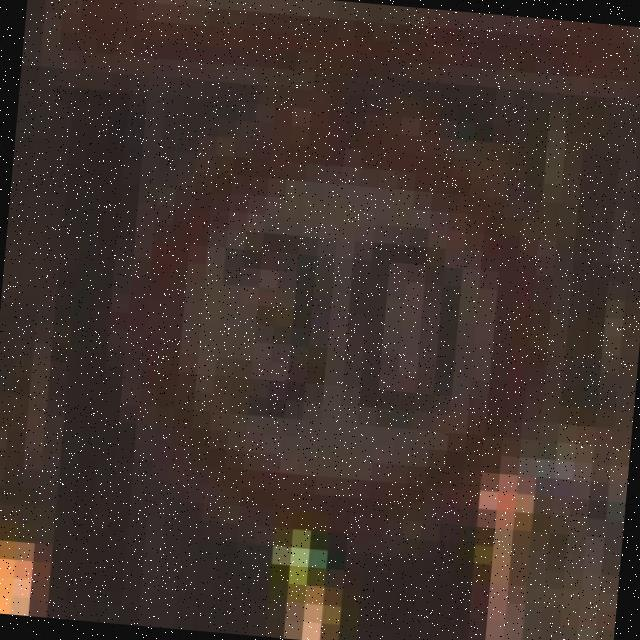Ograniczenie predkosci do 30: (97, 90, 558, 550)
